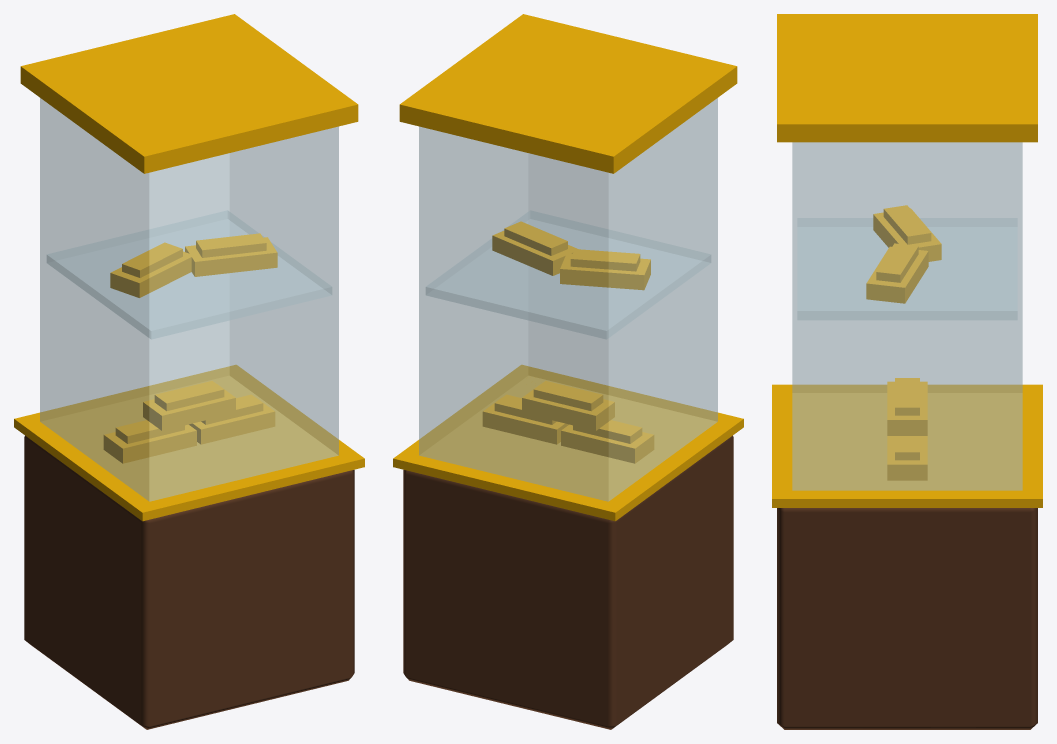
File: station_processing_ausstattung_3_3.glb
3 renders of one model, left to right at view 1: azimuth 30°, elevation 25°; view 2: azimuth 150°, elevation 25°; view 3: azimuth 270°, elevation 25°, orthographic. The views are drawn at different scales.
Visible parts, largest first — view 1: station_processing_ausstattung_3_3; view 2: station_processing_ausstattung_3_3; view 3: station_processing_ausstattung_3_3.
Boxes of the visible parts, x1=… form: station_processing_ausstattung_3_3: x1=14, y1=14, x2=364, y2=729; station_processing_ausstattung_3_3: x1=393, y1=14, x2=743, y2=729; station_processing_ausstattung_3_3: x1=772, y1=14, x2=1042, y2=729.
Size of the model in its own units: 0.54 by 1.34 by 0.54.
